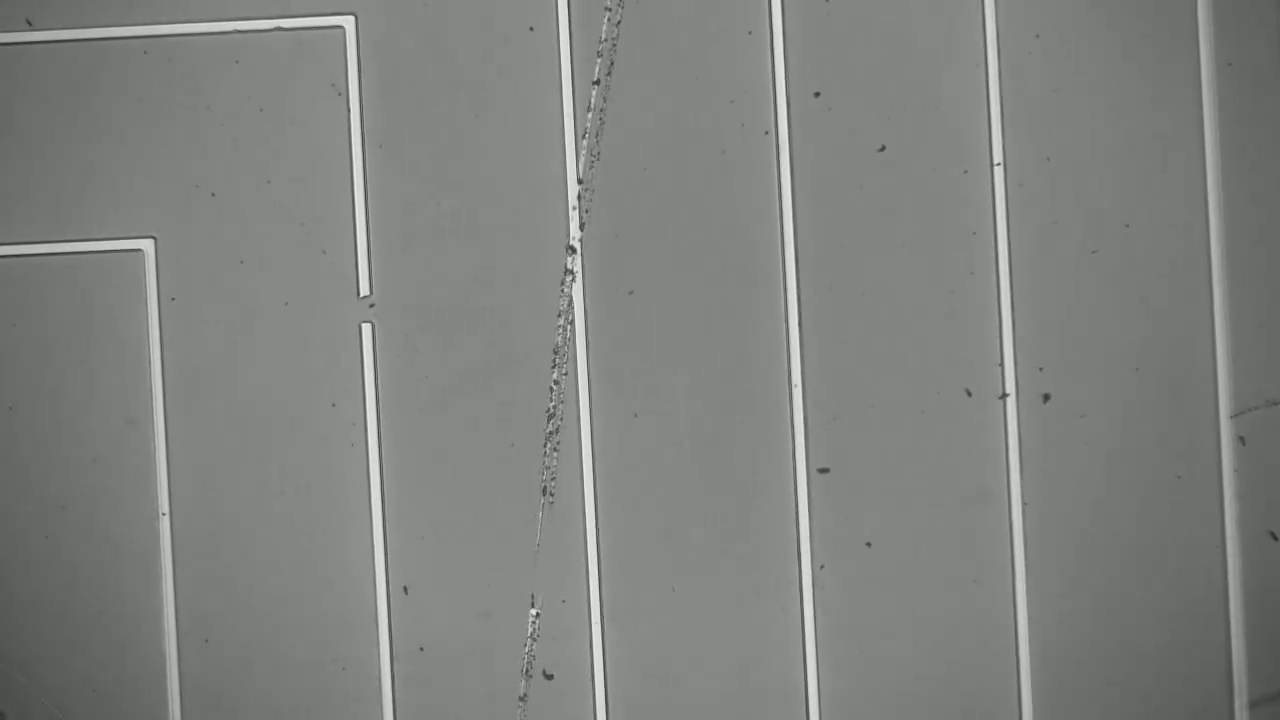open: (338, 273, 387, 344)
scratch: (510, 6, 630, 712), (1229, 384, 1273, 431)
